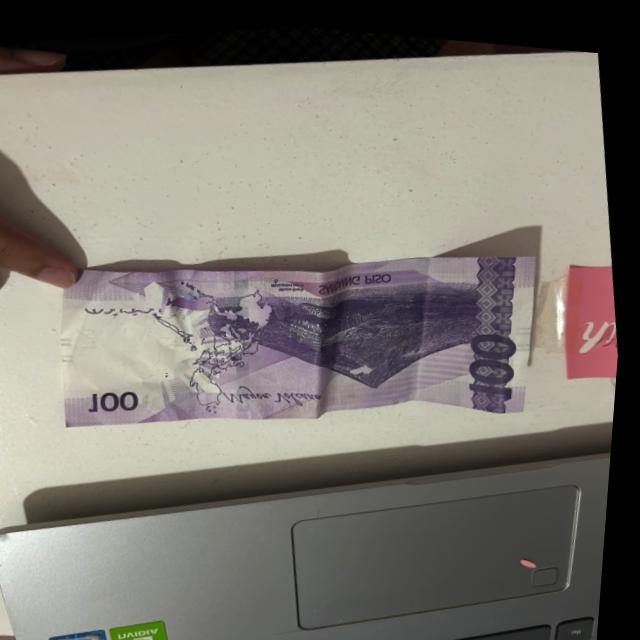100_whale: (264, 278, 394, 341)
100_whale_watermark: (164, 286, 222, 313)
value_watermark: (79, 320, 107, 351)
